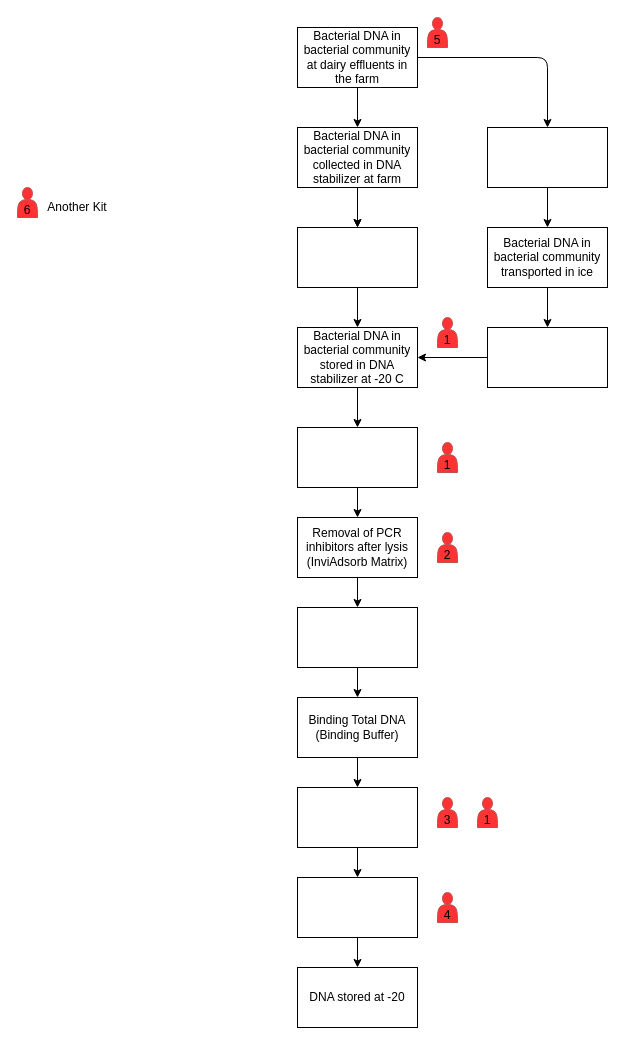
The diagram is 625 pixels wide and 1045 high, and some of its shapes have lost their labels. Each missing label, with the centre of its shape:
Bacterial Cells lysed to release DNA (Zirconia beads & incubation): the point at 357,457
Bacterial DNA in bacterial community collected at room temp at farm: the point at 547,157
Bacterial DNA in bacterial community stored at 4 C: the point at 547,357
Bacterial DNA in bacterial community transported in DNA stabilizer in ice: the point at 357,257
Elusion (Elusion Buffer): the point at 357,907
Protein Digestion (Proteinase K): the point at 357,637
Removing Residual Contaminants (Wash Buffer I and II): the point at 357,817
